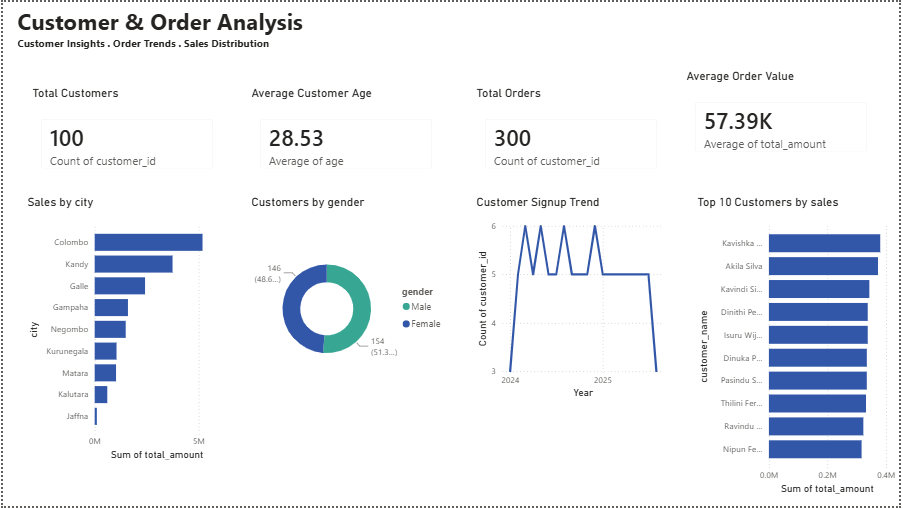

What the dashboard file says about the page in this screenshot:
{"tool":"powerbi","page":{"name":"Customer & Order Analysis","canvas":[1280,720],"ordinal":1},"visuals":[{"type":"cardVisual","title":"Total Customers","fields":{"Data":["Count(ecommerce_project customers.customer_id)"]},"box":[36.7,120,280,135],"z":0},{"type":"cardVisual","title":"Total Orders","fields":{"Data":["CountNonNull(ecommerce_project orders.customer_id)"]},"box":[671.7,120,280,135],"z":1000},{"type":"cardVisual","title":"Average Customer Age","fields":{"Data":["Avg(ecommerce_project customers.age)"]},"box":[350,120,280,135],"z":2000},{"type":"cardVisual","title":"Average Order Value","fields":{"Data":["Avg(ecommerce_project orders.total_amount)"]},"box":[971.7,95,280,135],"z":3000},{"type":"clusteredBarChart","title":"Sales by city","fields":{"Category":["ecommerce_project customers.city"],"Y":["Sum(ecommerce_project orders.total_amount)"]},"box":[30,275,293.3,383.3],"z":4000},{"type":"donutChart","title":"Customers by gender","fields":{"Category":["ecommerce_project customers.gender"],"Y":["CountNonNull(ecommerce_project orders.customer_id)"]},"box":[350,275,290,295],"z":5000},{"type":"lineChart","title":"Customer Signup Trend","fields":{"Y":["Count(ecommerce_project customers.customer_id)"],"Category":["ecommerce_project customers.signup_date.Variation.Date Hierarchy.Year","ecommerce_project customers.signup_date.Variation.Date Hierarchy.Month"]},"box":[671.7,275,280,295],"z":6000},{"type":"clusteredBarChart","title":"Top 10 Customers by sales","fields":{"Category":["ecommerce_project customers.customer_name"],"Y":["Sum(ecommerce_project orders.total_amount)"]},"box":[986.7,275,293.3,431.7],"z":7000},{"type":"textbox","box":[15,0,1146.7,95],"z":8000}]}

Visuals, with their boxes in screenshot pixels (x1, y1, x2, y2), scaled from the page's 1280x720 canvas onto the 903x508 screenshot:
"Total Customers" cardVisual: bbox=(26, 85, 223, 180)
"Total Orders" cardVisual: bbox=(474, 85, 671, 180)
"Average Customer Age" cardVisual: bbox=(247, 85, 444, 180)
"Average Order Value" cardVisual: bbox=(686, 67, 883, 162)
"Sales by city" clusteredBarChart: bbox=(21, 194, 228, 464)
"Customers by gender" donutChart: bbox=(247, 194, 452, 402)
"Customer Signup Trend" lineChart: bbox=(474, 194, 671, 402)
"Top 10 Customers by sales" clusteredBarChart: bbox=(696, 194, 902, 499)
textbox: bbox=(11, 0, 820, 67)
